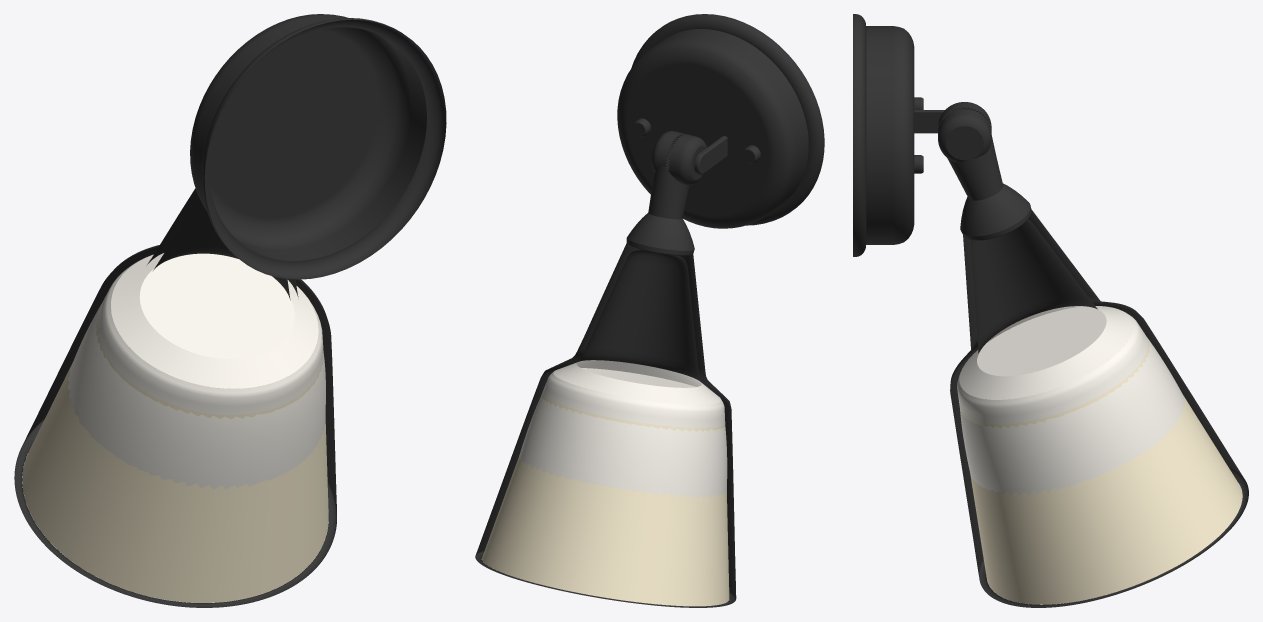
File: adjustable-swivel-flood-light.glb
3 renders of one model, left to right at view 1: azimuth 30°, elevation 25°; view 2: azimuth 150°, elevation 25°; view 3: azimuth 270°, elevation 25°, orthographic. The views are drawn at different scales.
Visible parts, largest first — view 1: Object_1, Object_4, Object_3; view 2: Object_1, Object_3, Object_4; view 3: Object_1, Object_4, Object_3.
Part boxes in pixels (x1,y1,x2,y2): Object_1: (14, 14, 446, 607); Object_4: (68, 253, 325, 489); Object_3: (22, 306, 328, 602); Object_1: (475, 14, 824, 607); Object_3: (481, 393, 729, 606); Object_4: (519, 360, 727, 497); Object_1: (853, 14, 1248, 607); Object_4: (957, 306, 1184, 494); Object_3: (960, 337, 1242, 604).
Bounding box in the file's own units: 0.1487 × 0.3176 × 0.2067.
